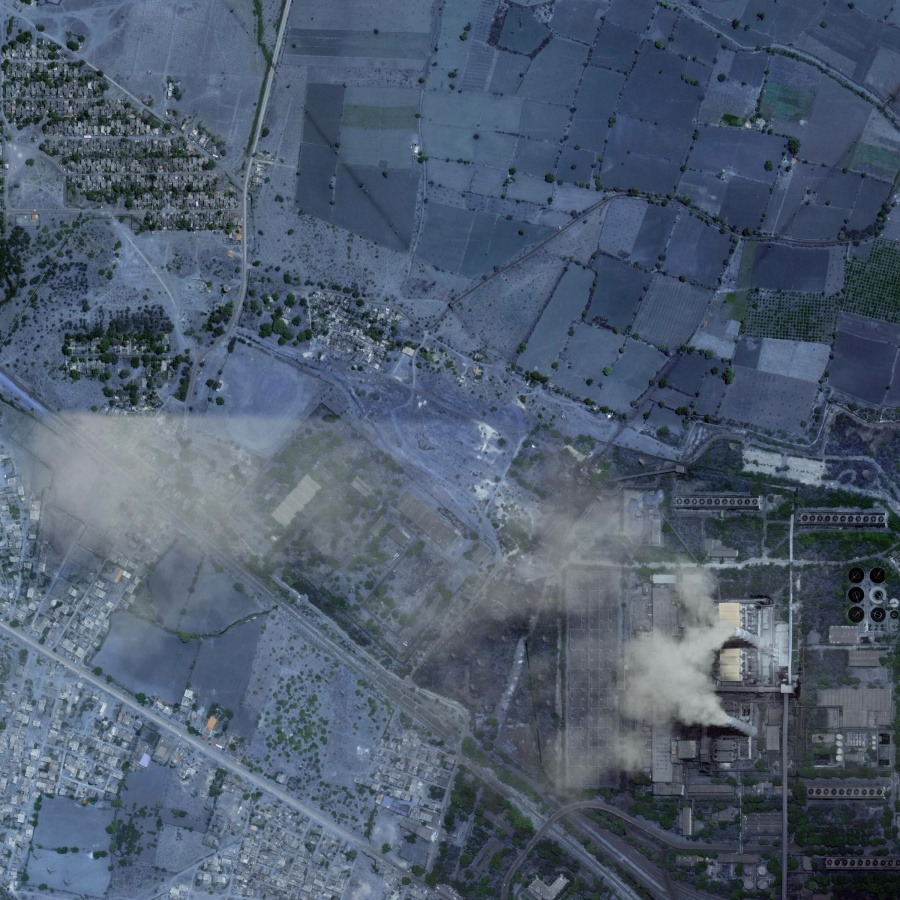PowerPlant: (568, 487, 840, 807)
